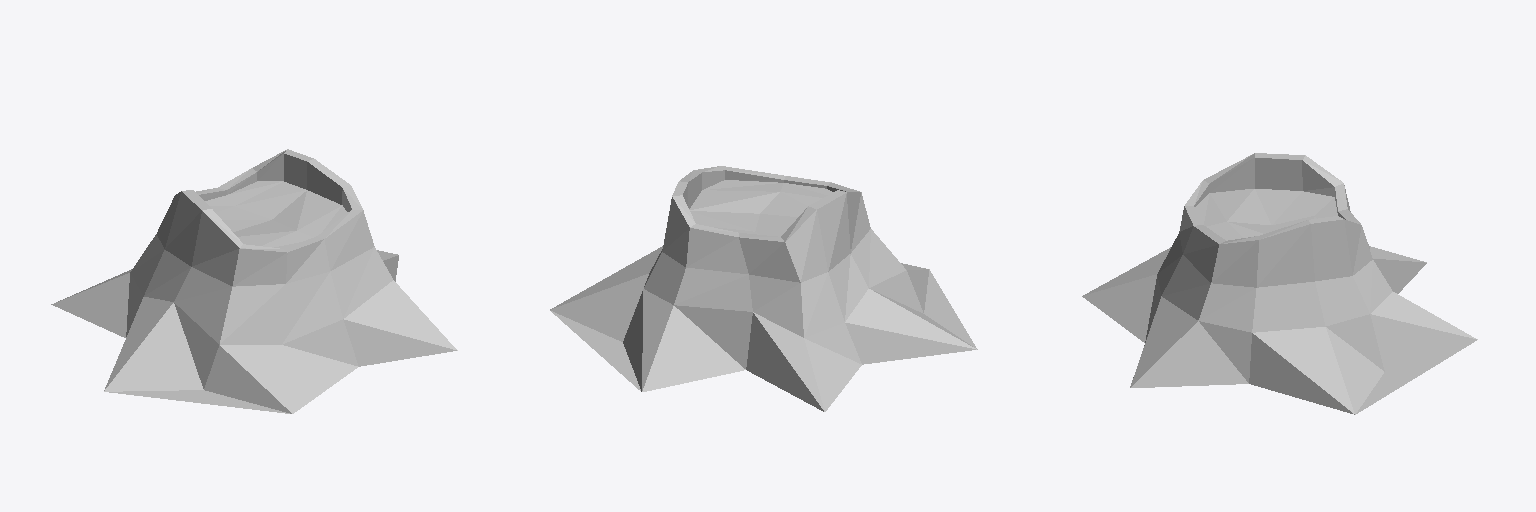
The model's file is trunk.obj.
3 views of the same model, side by side, from view 1: azimuth 30°, elevation 25°; view 2: azimuth 150°, elevation 25°; view 3: azimuth 270°, elevation 25° (orthographic).
Parts seen in each view (by area): view 1: Stump_average_low_Cube_014; view 2: Stump_average_low_Cube_014; view 3: Stump_average_low_Cube_014.
Boxes of the visible parts, x1,y1,x2,y2 form: Stump_average_low_Cube_014: [51, 149, 457, 413]; Stump_average_low_Cube_014: [550, 166, 977, 411]; Stump_average_low_Cube_014: [1082, 153, 1477, 414].
Bounding box in the file's own units: 2.88 × 1.07 × 2.73.